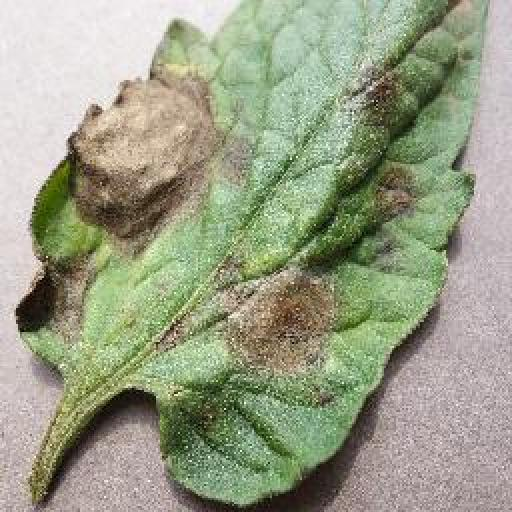disease_tomato: (16, 0, 491, 512)
